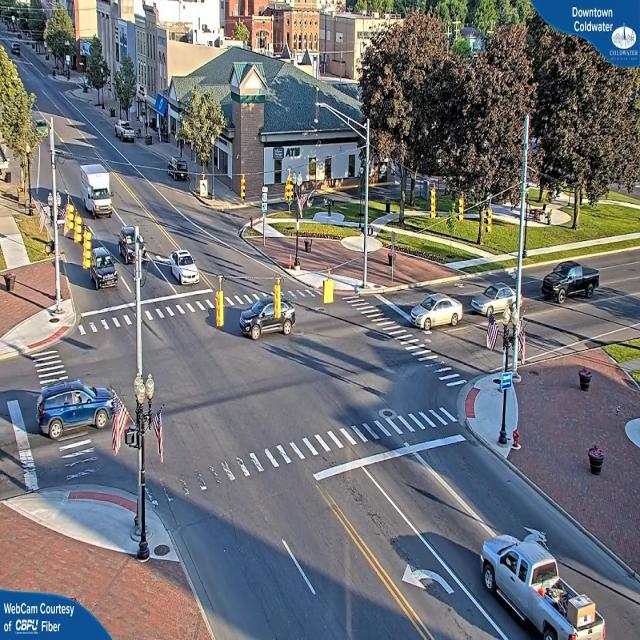car: (482, 545, 598, 640), (35, 377, 115, 441), (238, 296, 295, 341), (542, 262, 601, 300), (409, 295, 460, 330), (471, 282, 522, 316), (169, 250, 201, 286), (90, 253, 118, 287), (119, 226, 142, 265), (116, 123, 136, 143)
truck: (76, 162, 117, 222)
